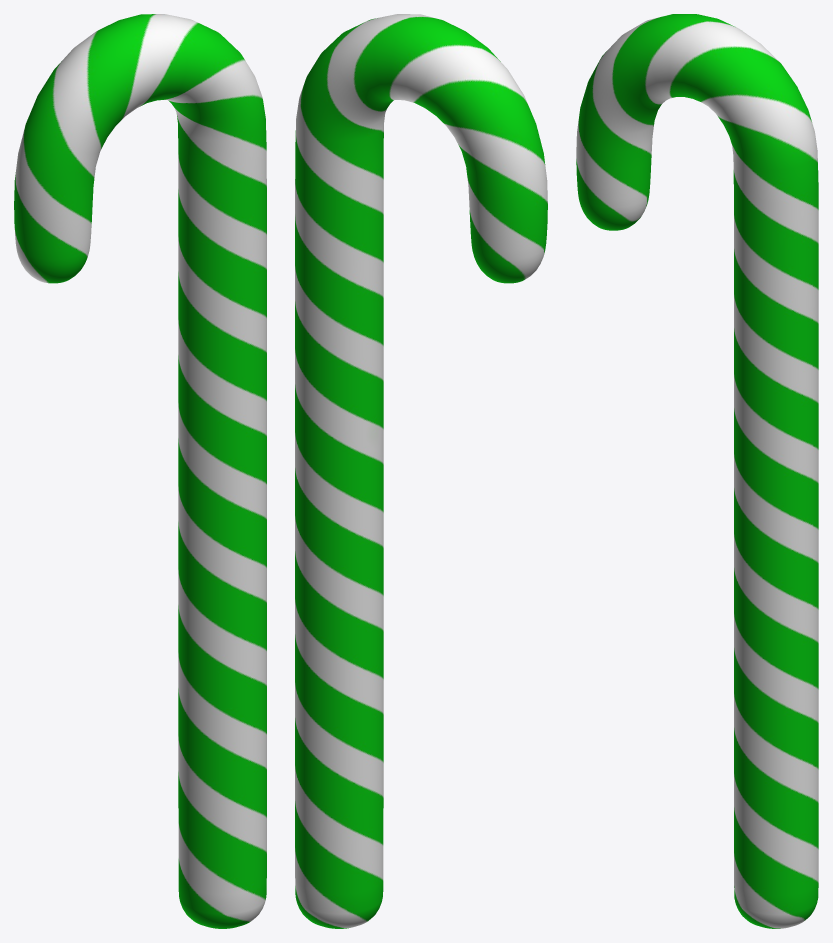
Rendered from ccg.glb.
3 views of the same model, side by side, from view 1: azimuth 30°, elevation 25°; view 2: azimuth 150°, elevation 25°; view 3: azimuth 330°, elevation 25° (orthographic). The views are drawn at different scales.
Parts seen in each view (by area): view 1: candy; view 2: candy; view 3: candy.
Part boxes in pixels (x1=…): candy: x1=14, y1=14, x2=266, y2=928; candy: x1=295, y1=14, x2=547, y2=928; candy: x1=576, y1=14, x2=818, y2=928.
Size of the model in its own units: 192 by 700 by 60.92.
Materials: 1 (1 with a texture image).
